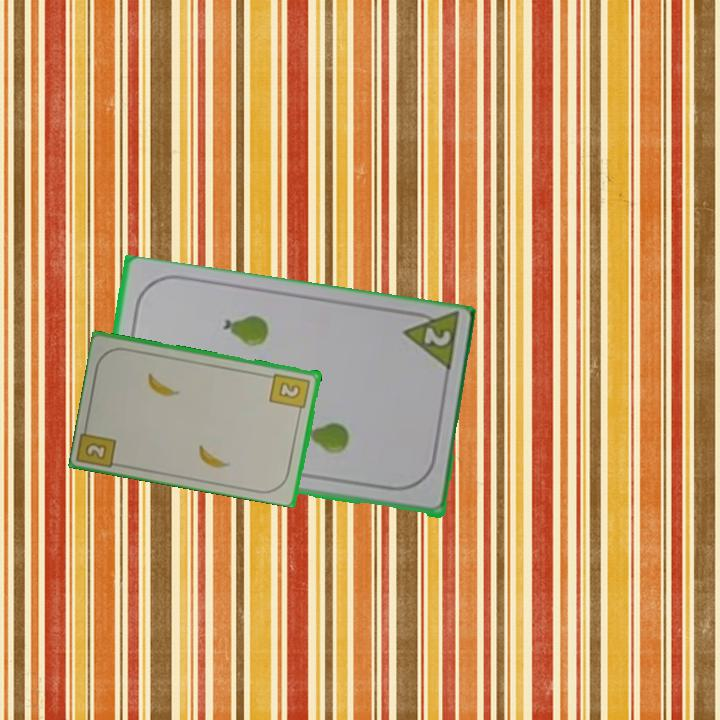2b: (267, 370, 313, 417), (82, 439, 110, 462)
2p: (398, 306, 462, 378)
